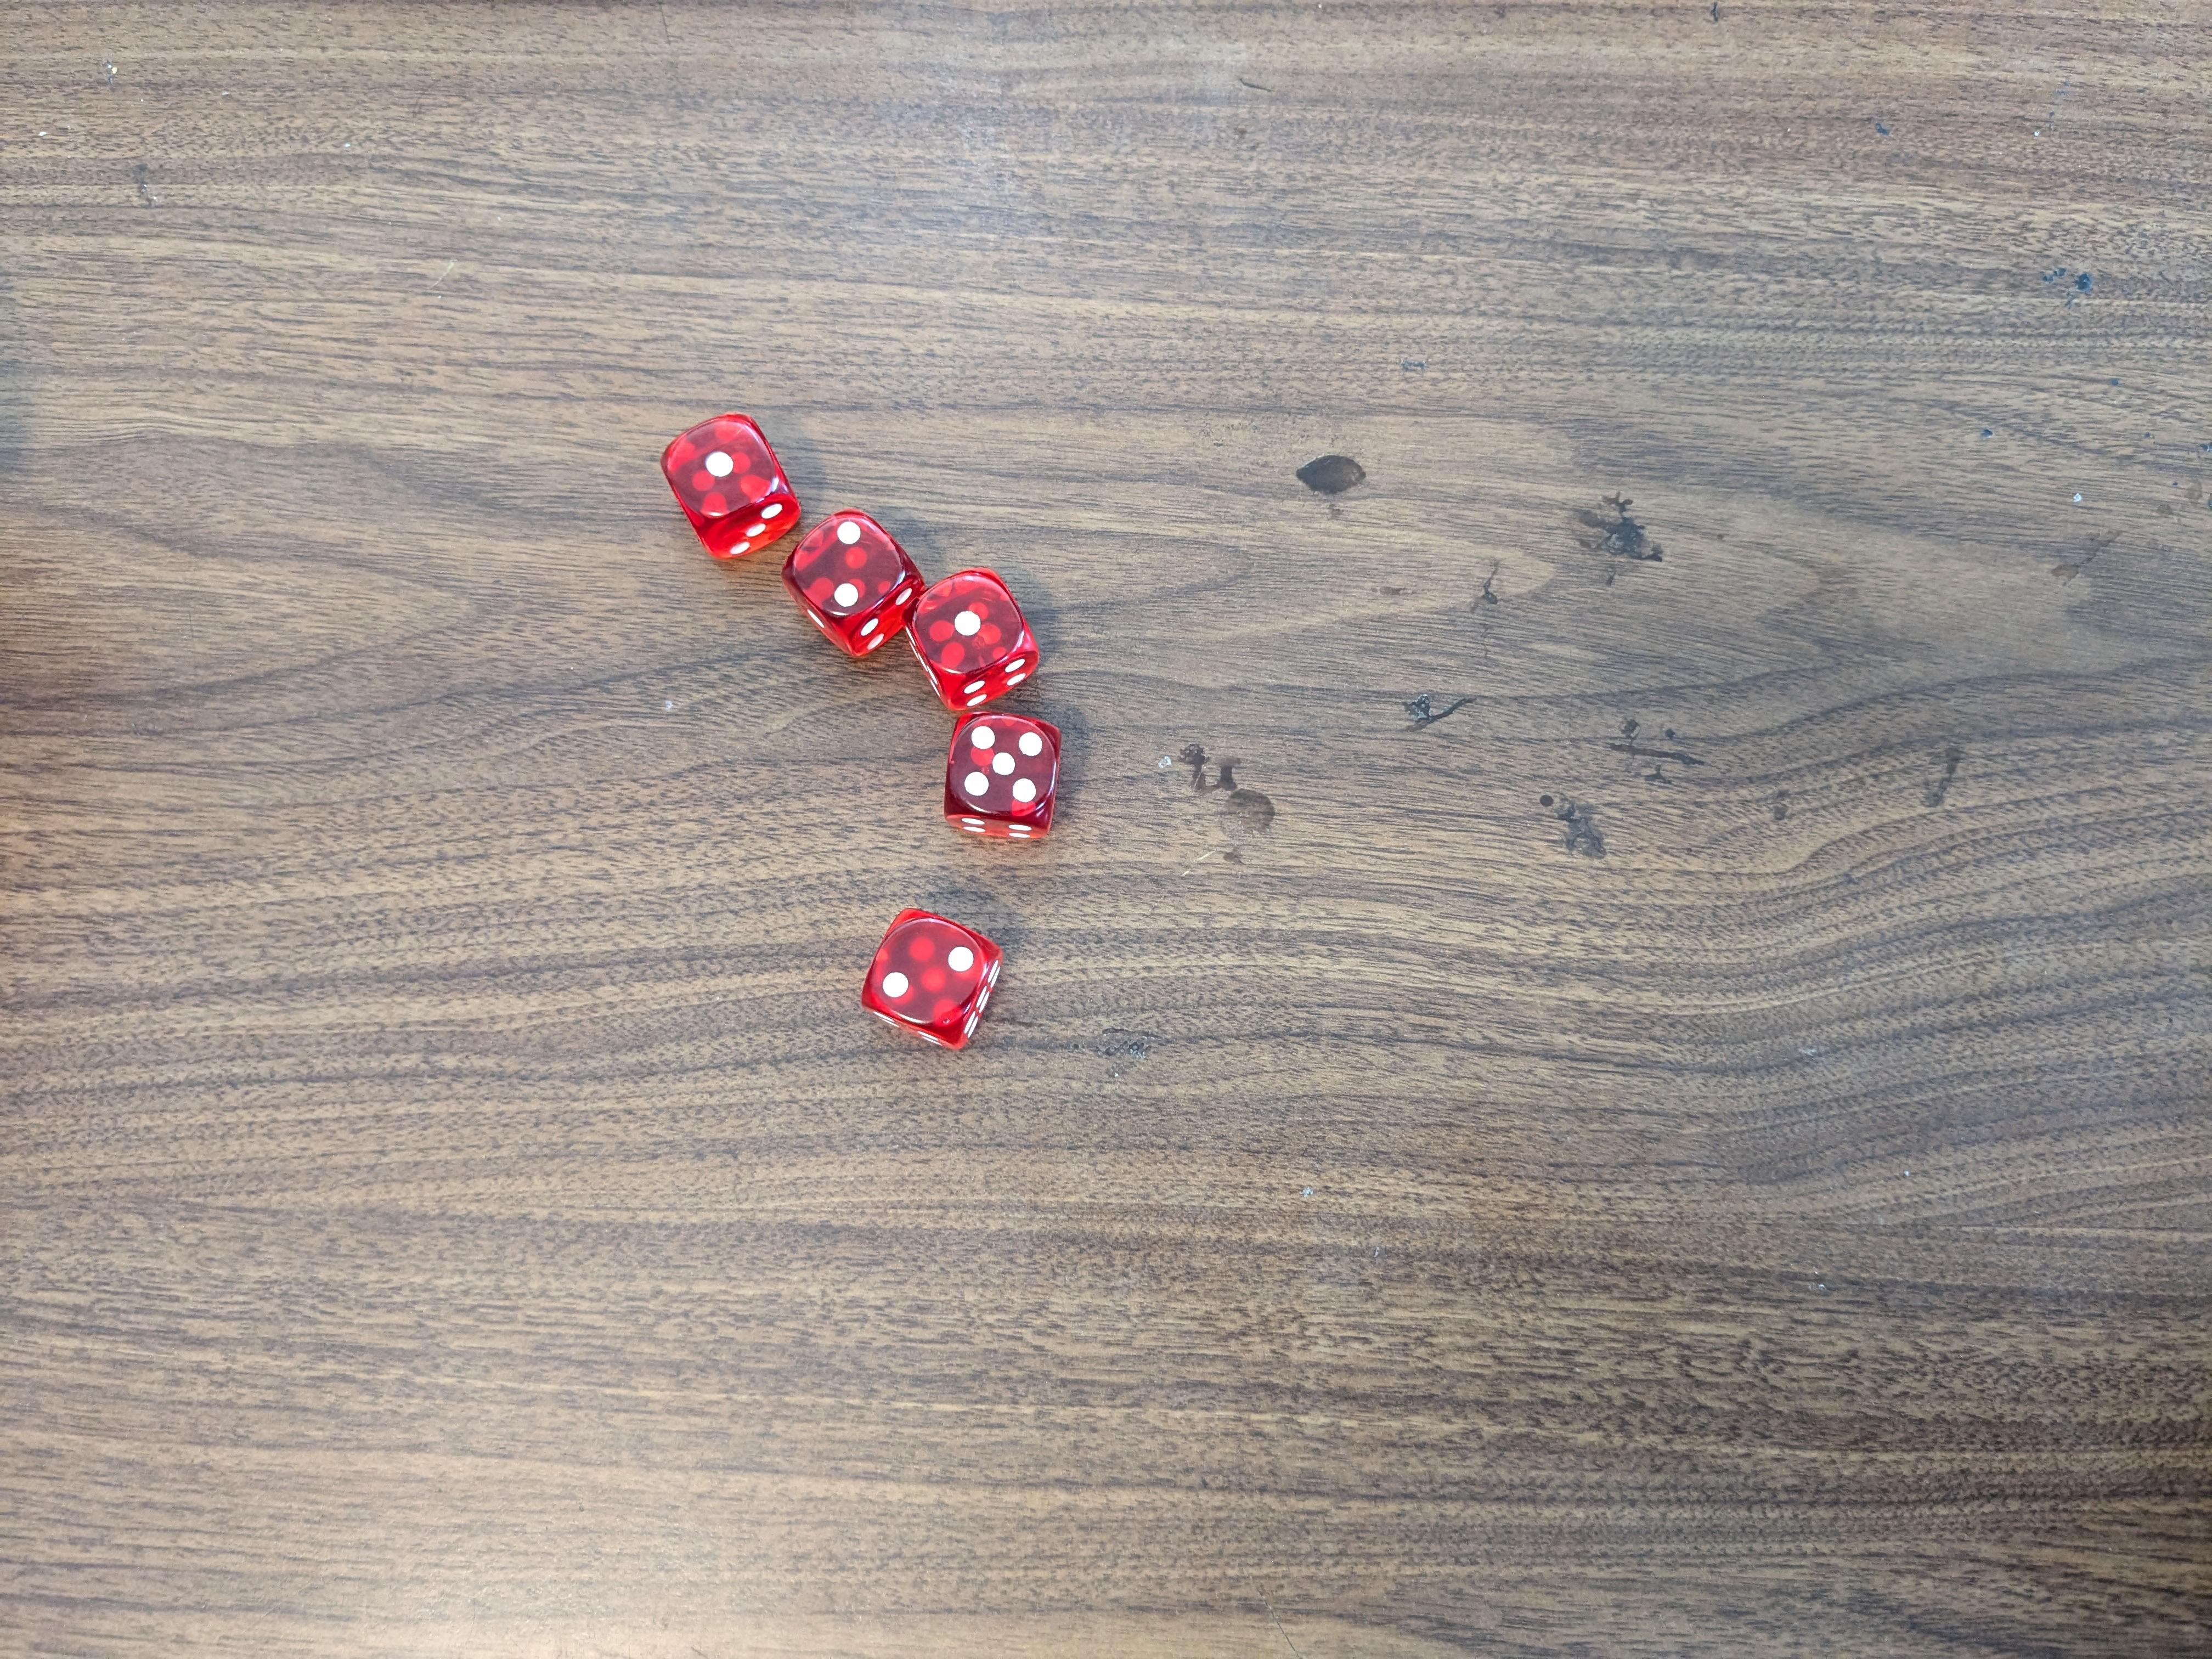five: (946, 709, 1062, 836)
one: (657, 404, 812, 558), (895, 563, 1047, 706)
two: (786, 505, 928, 657), (860, 910, 1008, 1053)
